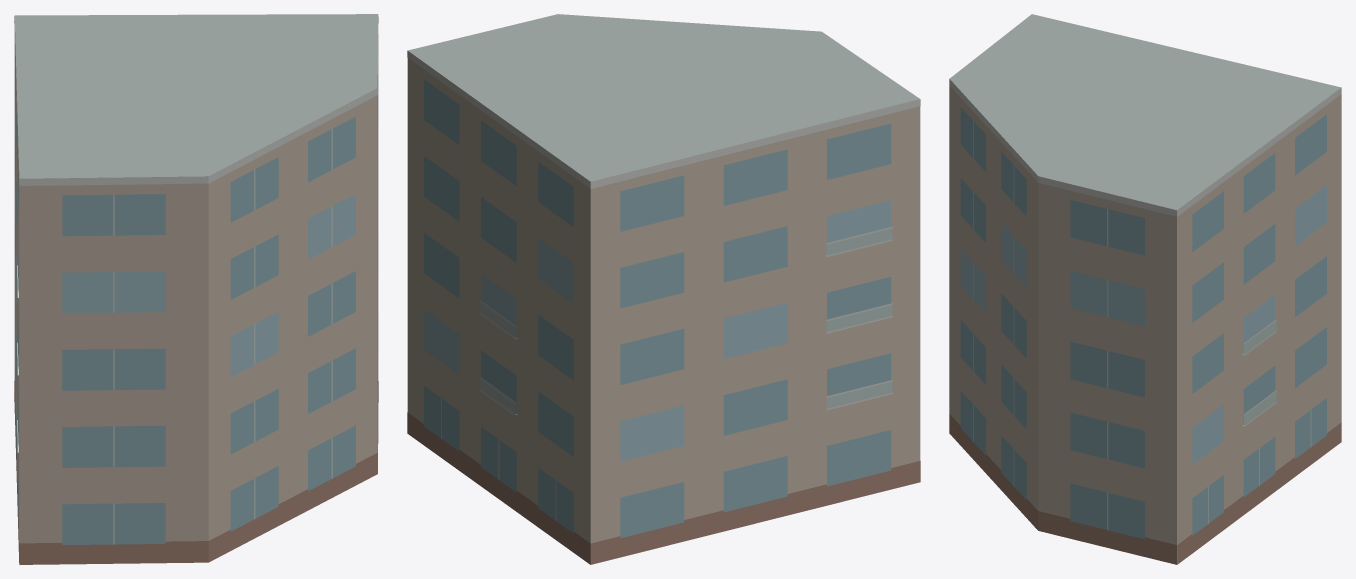
File: survey-upis-32977590.glb
The picture shows the model from 3 angles, left to right: view 1: azimuth 30°, elevation 25°; view 2: azimuth 150°, elevation 25°; view 3: azimuth 270°, elevation 25°; orthographic projection. The views are drawn at different scales.
Parts seen in each view (by area): view 1: survey-upis-32977590.tmp; view 2: survey-upis-32977590.tmp; view 3: survey-upis-32977590.tmp.
Part boxes in pixels (x1,y1,x2,y2): survey-upis-32977590.tmp: (14, 14, 378, 564); survey-upis-32977590.tmp: (407, 14, 920, 564); survey-upis-32977590.tmp: (949, 14, 1341, 564).
Bounding box in the file's own units: 15.56 × 13.1 × 13.14.
